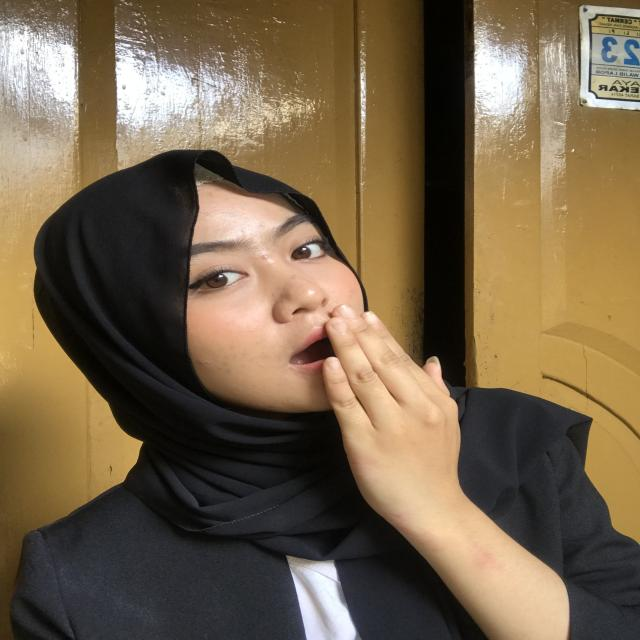ngantuk: (281, 298, 502, 537)
